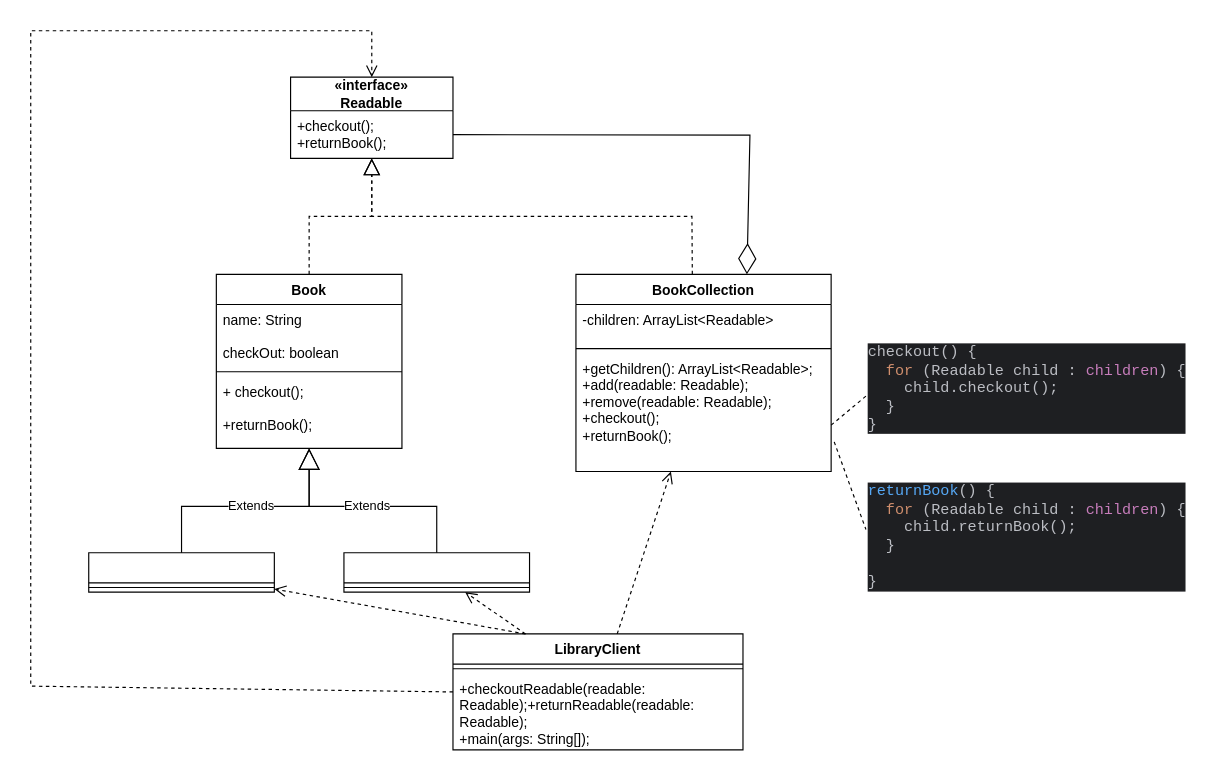
Image size: 1211x774. Some labels were removed from this diagram. Each missing label, with the centre of its shape:
"FictionBook" belongs at (x=436, y=572).
"NonfictionBook" belongs at (x=181, y=572).
